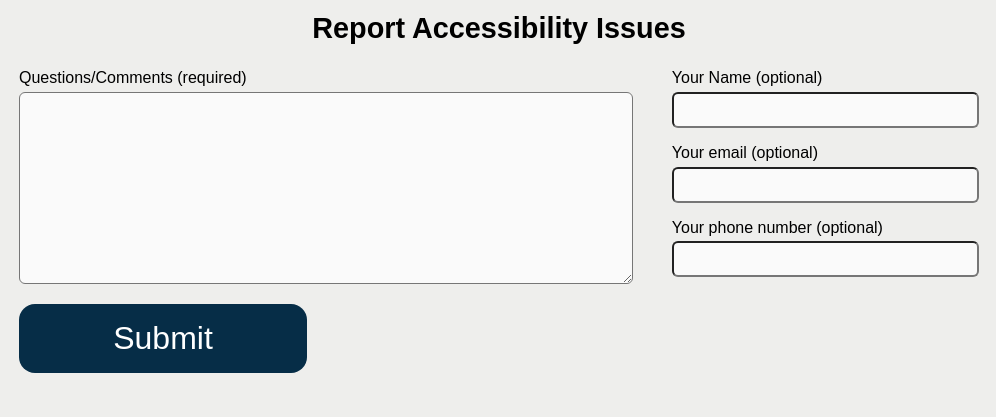
when the form data is invalid › shows error message for required comments
Type "non-empty value" into the text box labelled "Questions/Comments (required)" at (326,188), box [19,92,633,284]
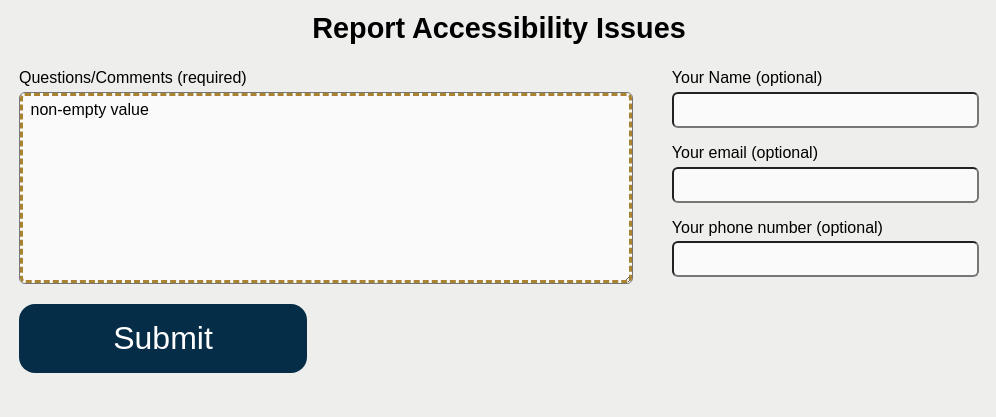
Clear the text box labelled "Questions/Comments (required)" at (326,188), box [19,92,633,284]
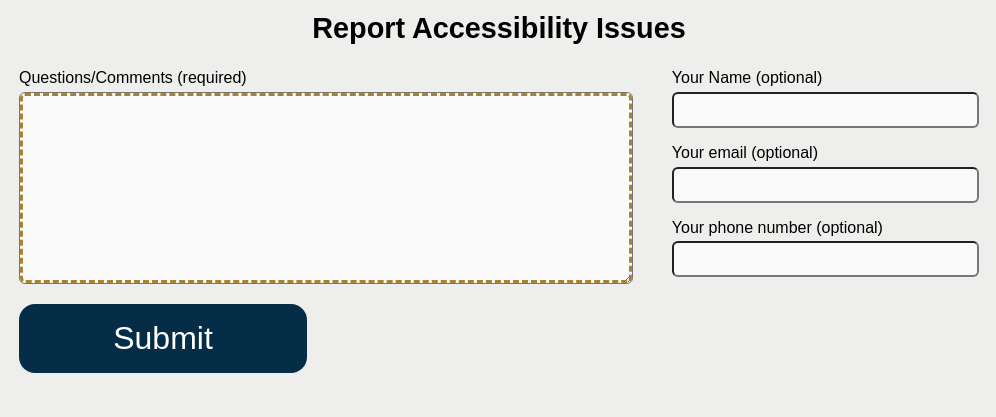
Click the button "Submit" at (163,338), box [19,304,307,373]
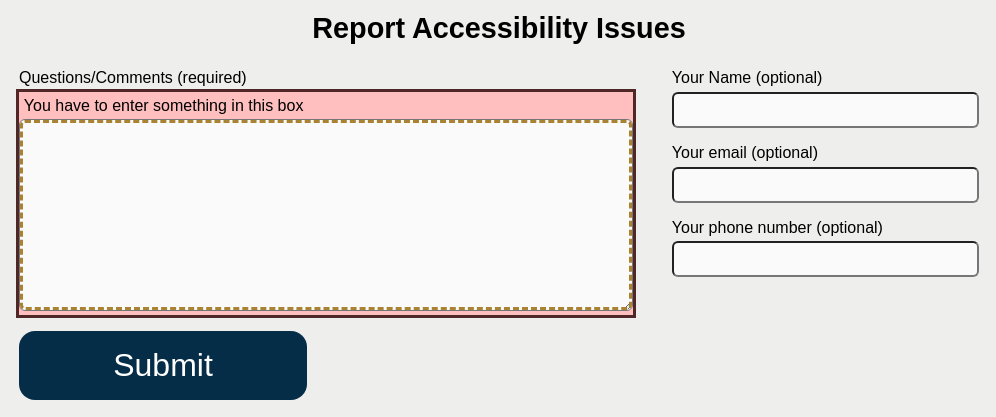
Expected: the text "You have to enter something in this box" is shown, [24,97,303,114]
